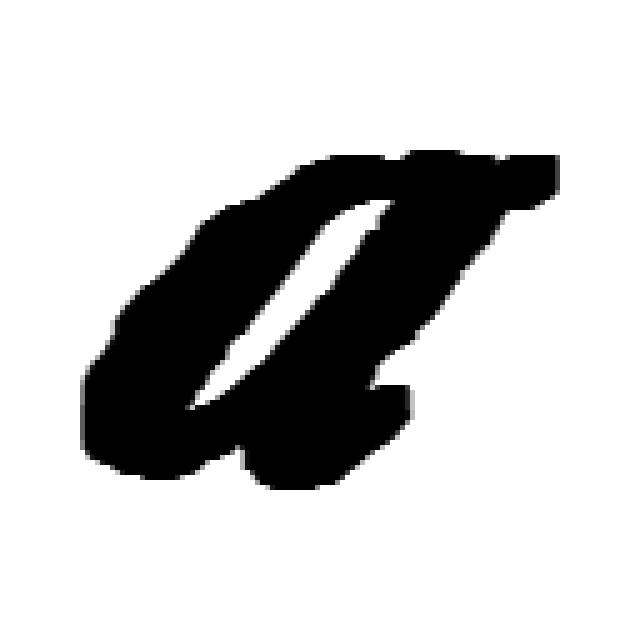A: (75, 142, 566, 492)
